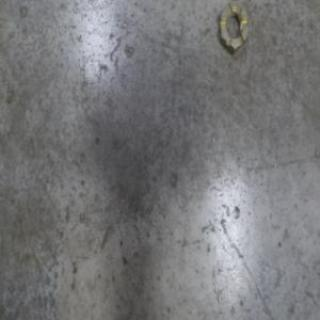Nuttrack_idkeyframe: (217, 0, 249, 55)
